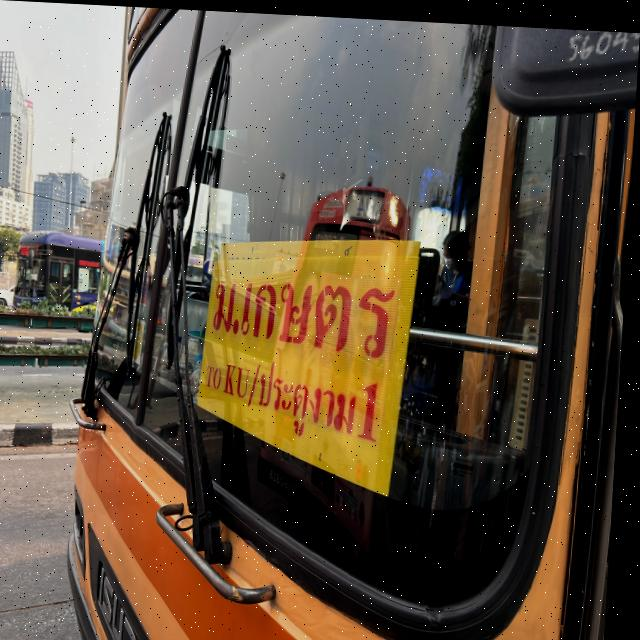BMTA-bus: (61, 4, 640, 640)
Destination-Sign-Extra-Bus-Expressway: (192, 221, 425, 497)
